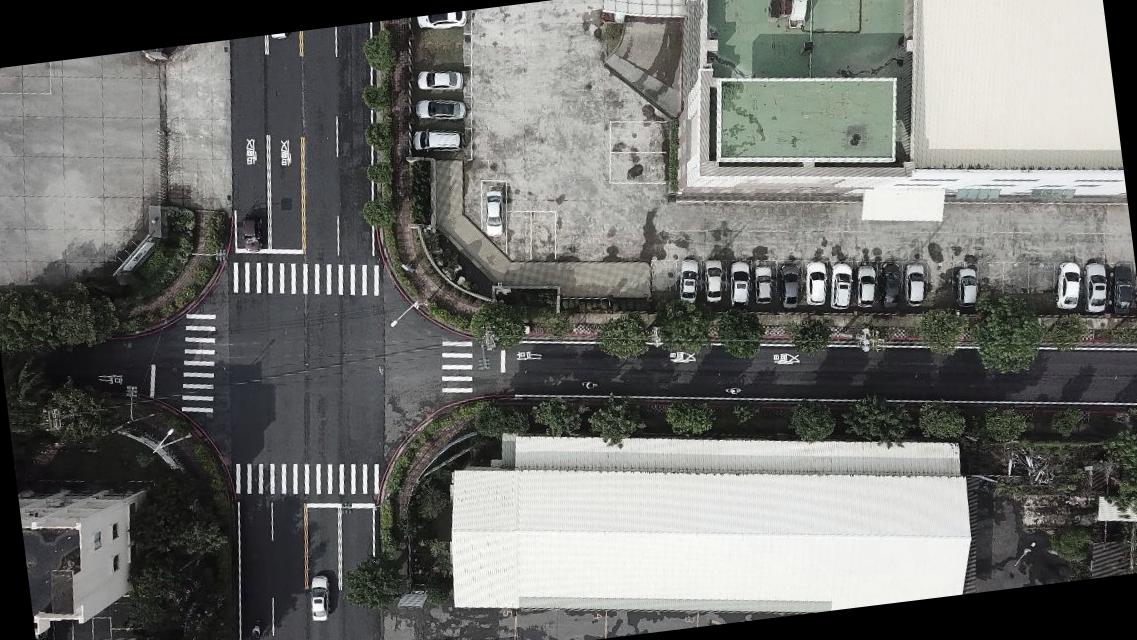vehicle: (410, 122, 466, 158), (1103, 262, 1136, 317), (414, 94, 469, 126), (1079, 261, 1111, 313), (824, 262, 856, 313), (1052, 260, 1084, 310), (480, 188, 509, 240), (874, 260, 903, 310), (776, 261, 805, 311), (725, 260, 753, 310), (415, 67, 465, 95), (674, 258, 703, 306), (698, 256, 725, 304), (852, 262, 880, 308), (952, 266, 980, 310), (803, 260, 831, 304), (901, 262, 927, 308), (416, 10, 467, 33), (308, 576, 332, 622), (240, 212, 264, 257), (752, 264, 774, 307)
